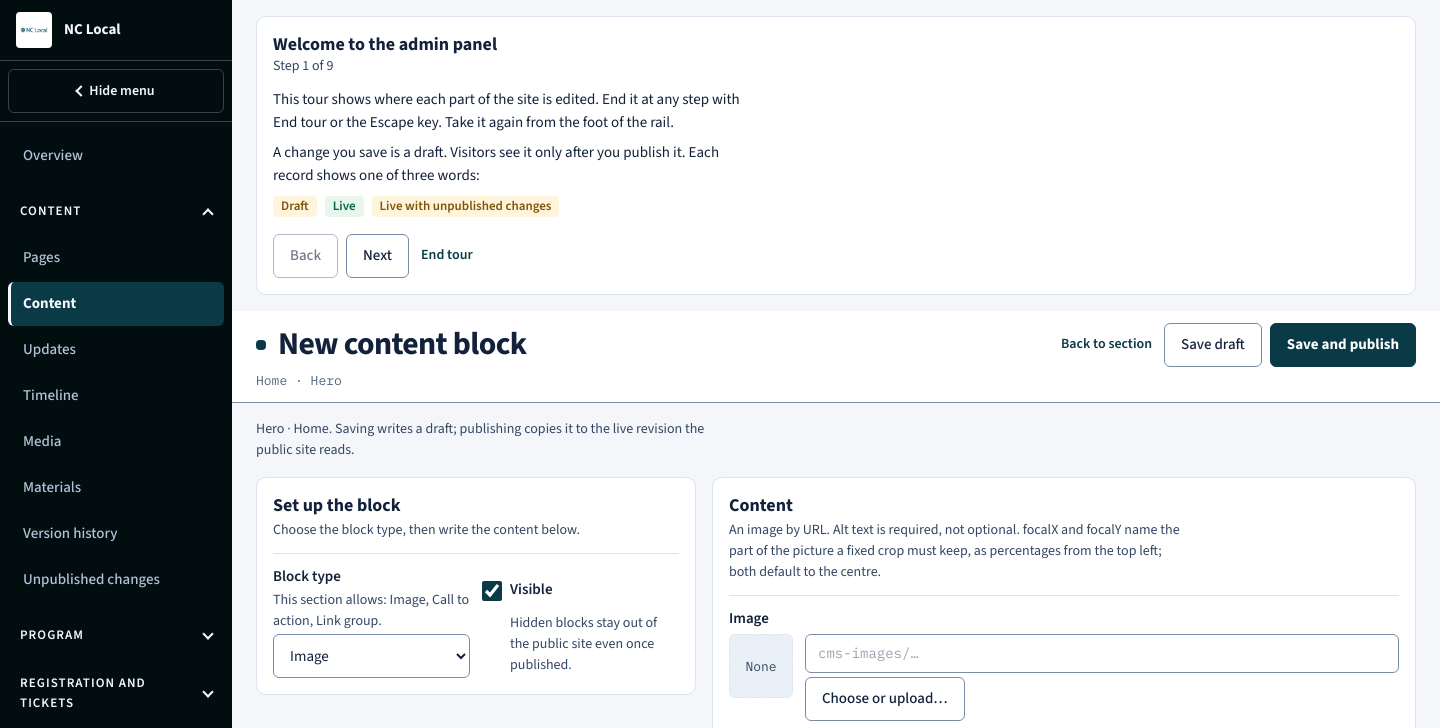
Test: AdminContentBlockEditor value fields › warns when a cta leads to a section that is off, and still saves it
This screenshot has width=1440, height=728.
Expected: the heading "New content block" is shown, top-left (278, 326), bottom-right (527, 364)
Select "Call to action" in the dropdown labelled "Block type": (372, 656) top-left (273, 634), bottom-right (470, 678)
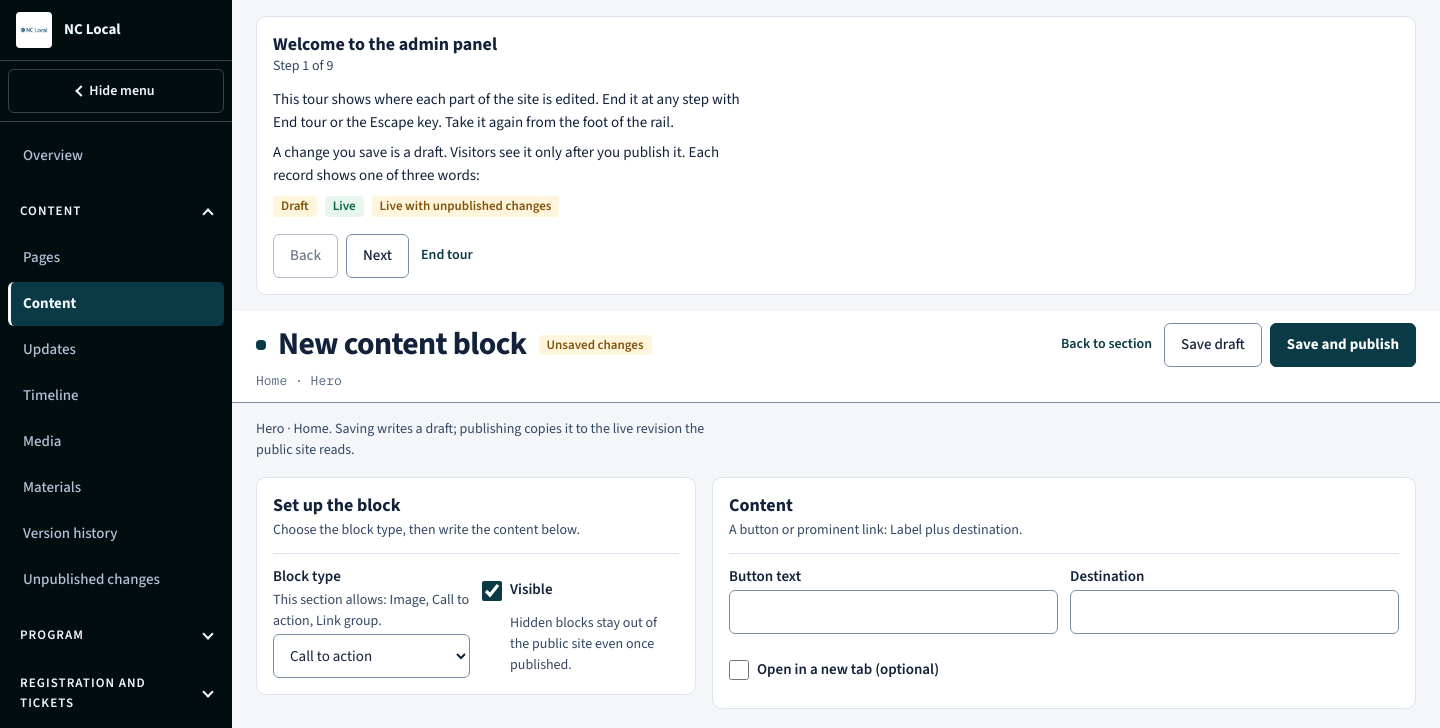
In the field labelled "Button text": (894, 612) top-left (729, 590), bottom-right (1058, 634), type "Explore the program"
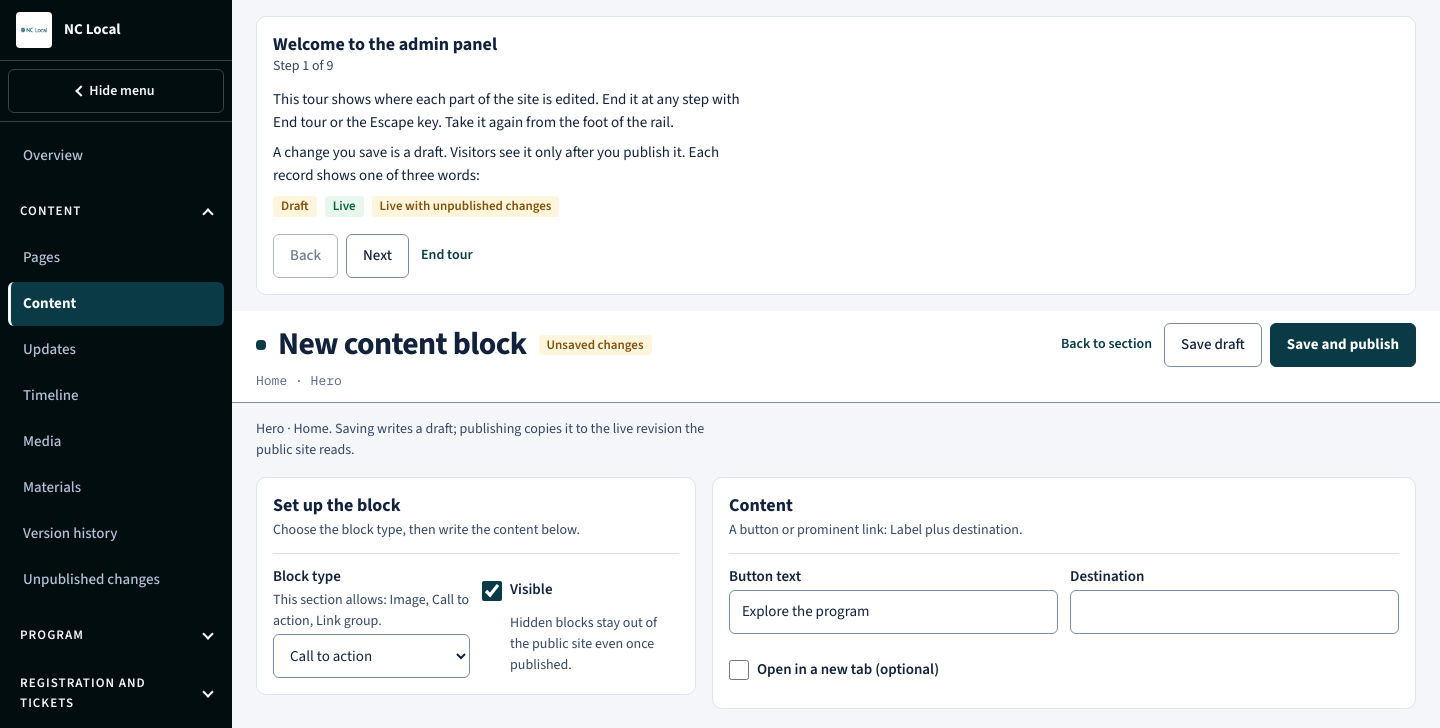
In the field labelled "Destination": (1234, 612) top-left (1070, 590), bottom-right (1399, 634), type "/speakers"
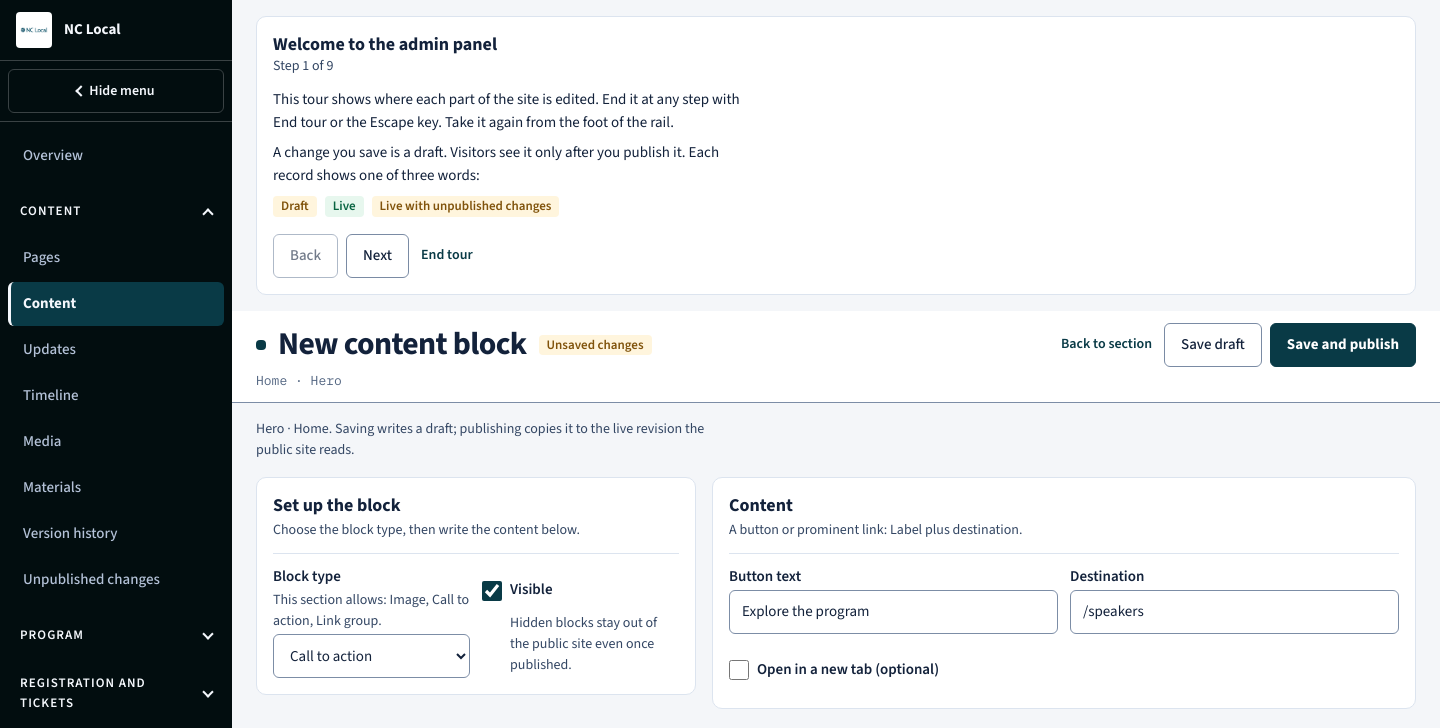
Expected: the text "is off in Features" is not shown
Replace the text in the field labelled "Destination" with "/schedule": (1234, 612) top-left (1070, 590), bottom-right (1399, 634)
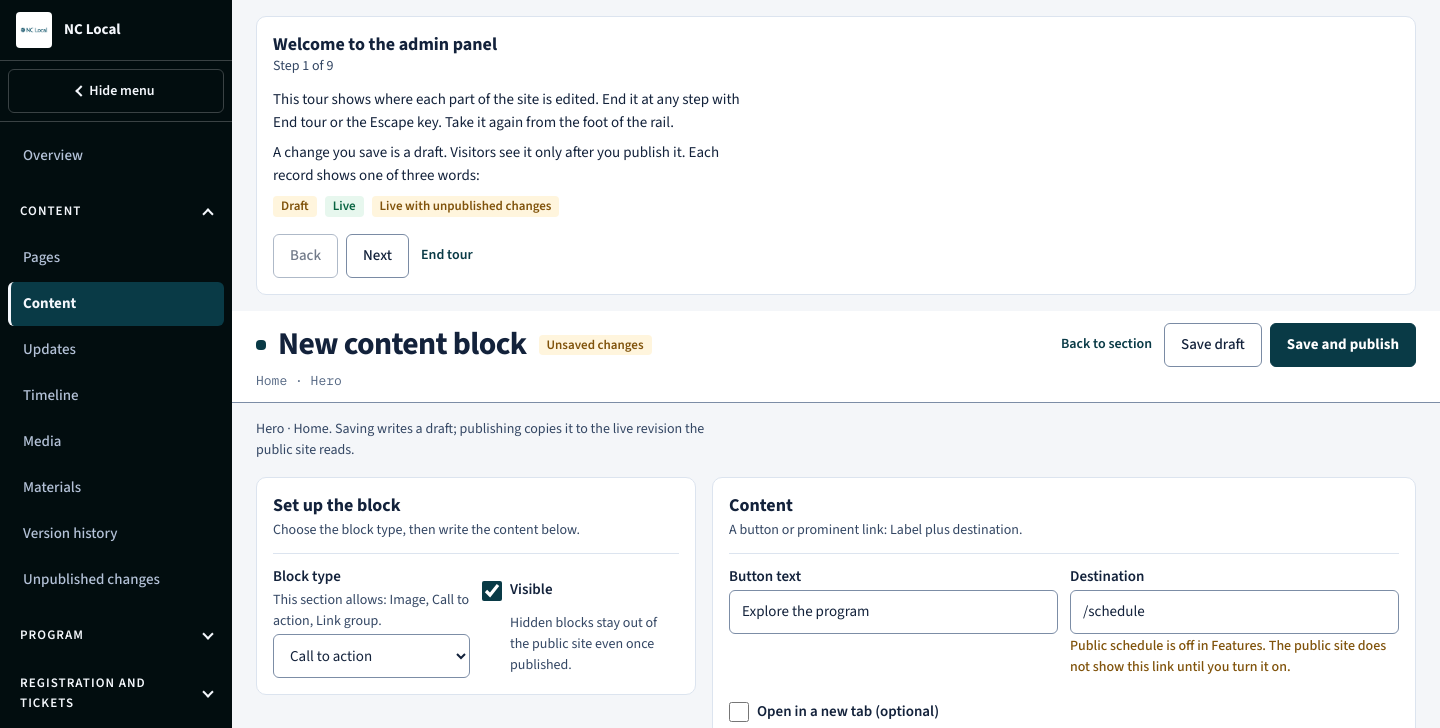
Click the button "Save draft": (1213, 345) top-left (1164, 323), bottom-right (1262, 367)
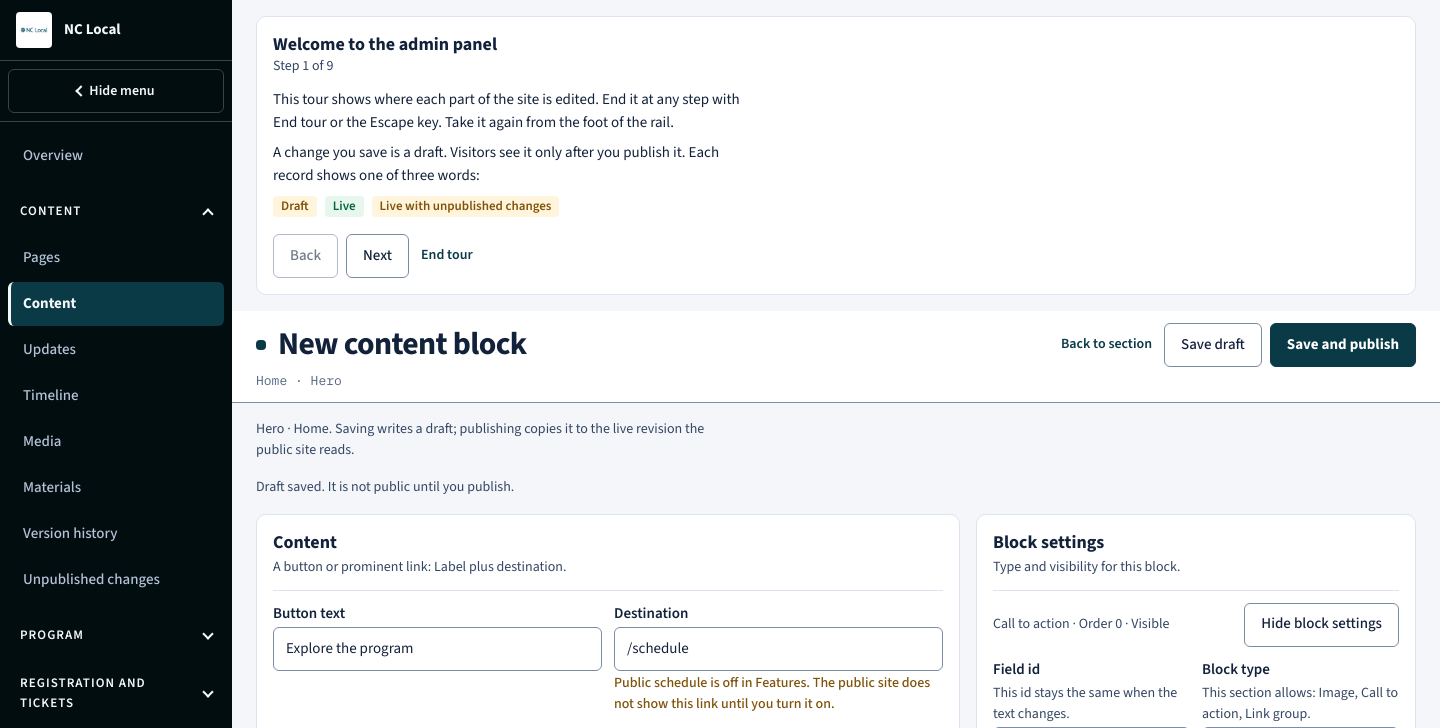
Now the text "Draft saved. It is not public until you publish." is shown, box top-left (256, 477), bottom-right (514, 497)
